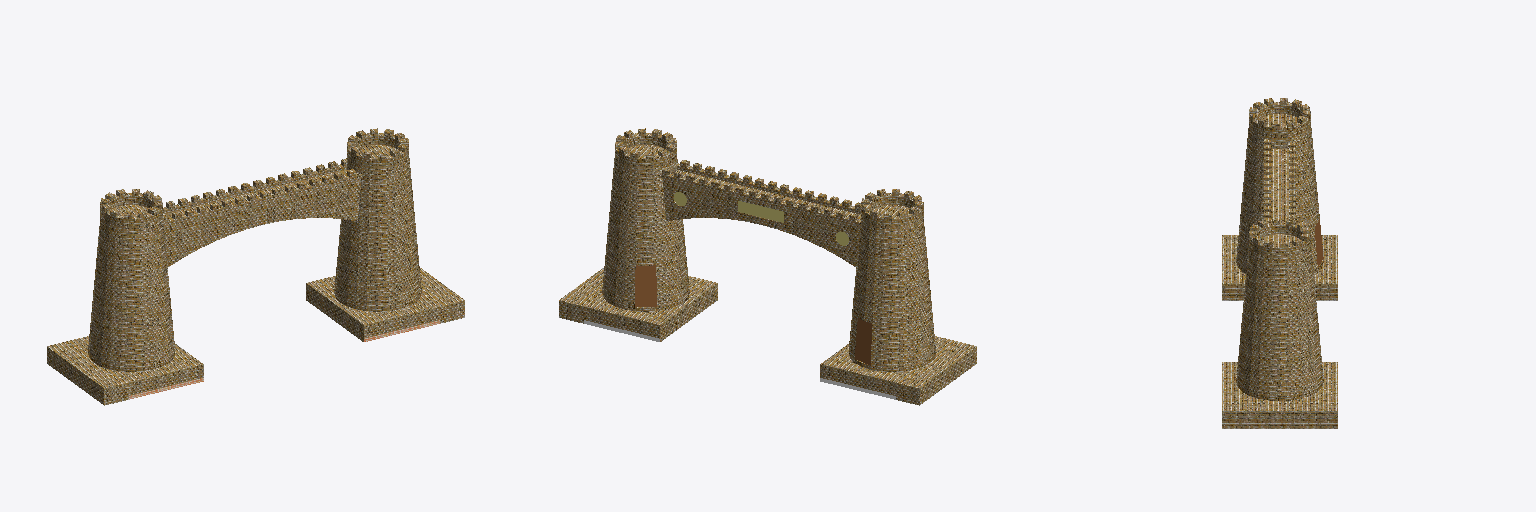
3 views of the same model, side by side, from view 1: azimuth 30°, elevation 25°; view 2: azimuth 150°, elevation 25°; view 3: azimuth 270°, elevation 25° (orthographic).
Visible parts, largest first — view 1: Mesh1 Model; view 2: Mesh1 Model; view 3: Mesh1 Model.
Boxes of the visible parts, <box> form: Mesh1 Model: <box>47,128,464,405</box>; Mesh1 Model: <box>559,128,976,405</box>; Mesh1 Model: <box>1222,98,1337,428</box>.
Size of the model in its own units: 5712 by 2559 by 1580.
5 materials, 2 textured.